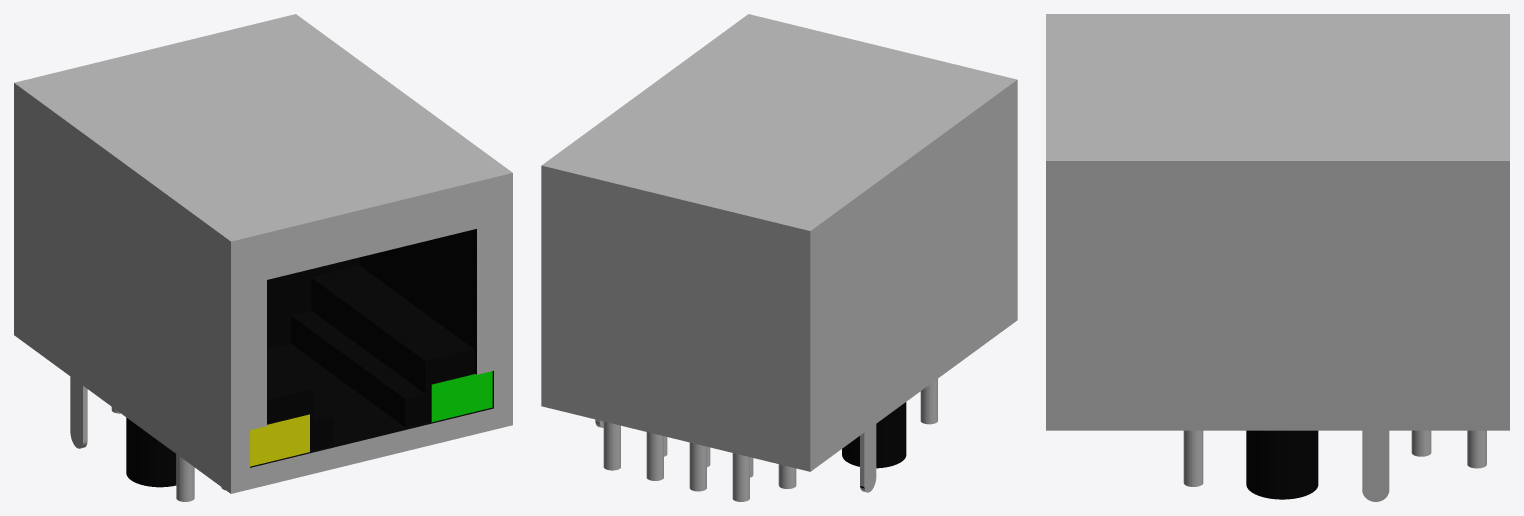
The model's file is MAGJACK.dae.
3 views of the same model, side by side, from view 1: azimuth 30°, elevation 25°; view 2: azimuth 150°, elevation 25°; view 3: azimuth 270°, elevation 25° (orthographic). The views are drawn at different scales.
Parts seen in each view (by area): view 1: MAGJACK; view 2: MAGJACK; view 3: MAGJACK.
Boxes of the visible parts, x1,y1,x2,y2 form: MAGJACK: [14, 14, 512, 501]; MAGJACK: [541, 14, 1017, 501]; MAGJACK: [1046, 14, 1509, 501].
Size of the model in its own units: 15.9 by 21.2 by 17.35.
